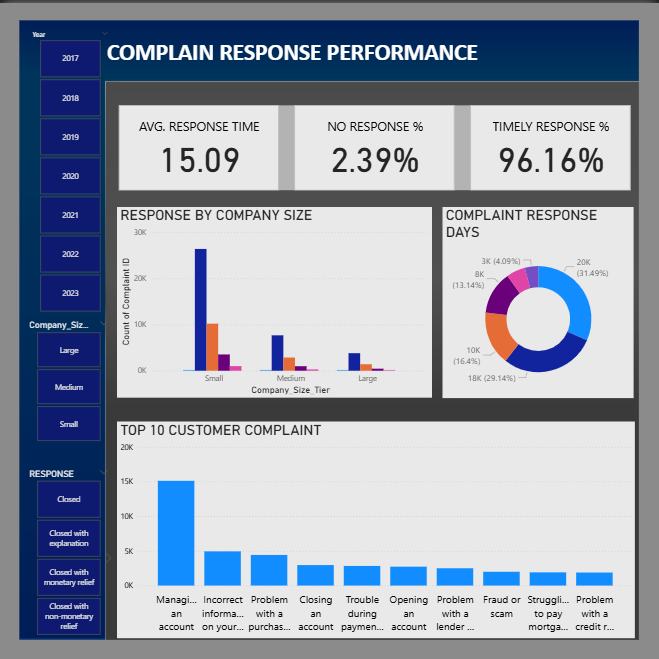

Layout of this report page (visuals, bound fields, positions):
{"tool":"powerbi","page":{"name":"RESPONSE PERF.","canvas":[1045,1048],"ordinal":1},"visuals":[{"type":"textbox","box":[164.6,50,841.7,85.4],"z":1000},{"type":"cardVisual","fields":{"Data":["MEASURES (2).AVG. RESPONSE TIME","MEASURES (2).NO RESPONSE %","MEASURES (2).TIMELY RESPONSE %"]},"box":[183.3,156.2,822.9,145.8],"z":2000},{"type":"clusteredColumnChart","title":"RESPONSE BY COMPANY SIZE","fields":{"Series":["Complaints.Company response to consumer"],"Category":["Company.Company_Size_Tier"],"Y":["CountNonNull(Complaints.Complaint ID)"]},"box":[184.6,323.1,500,302.6],"z":3000},{"type":"donutChart","title":"COMPLAINT RESPONSE DAYS","fields":{"Y":["MEASURES (2).TOTAL COMPLAINT"],"Category":["Company.Avg_Response_Time_Days (groups)"]},"box":[703.4,323.7,303.4,303.4],"z":4000},{"type":"clusteredColumnChart","title":"TOP 10 CUSTOMER COMPLAINT ","fields":{"Category":["Complaints.Issue"],"Y":["MEASURES (2).TOTAL COMPLAINT"]},"box":[184.7,664.4,822,344.1],"z":5000},{"type":"slicer","fields":{"Values":["DateTable.Year"]},"box":[37,39.1,145.7,458.7],"z":6000},{"type":"slicer","fields":{"Values":["Company.Company_Size_Tier"]},"box":[32.6,497.8,150,204.3],"z":7000},{"type":"slicer","fields":{"Values":["Complaints.Company response to consumer"]},"box":[32.6,732.6,150,276.1],"z":8000}]}

Visuals, with their boxes on the page's 1045x1048 design canvas (x1, y1, x2, y2). These are canvas units, not pixel positions in the 659x659 screenshot, which may show the page scaled, cropped or inside an application window:
textbox: detection(165, 50, 1006, 135)
cardVisual - MEASURES (2).AVG. RESPONSE TIME x MEASURES (2).NO RESPONSE %: detection(183, 156, 1006, 302)
"RESPONSE BY COMPANY SIZE" clusteredColumnChart: detection(185, 323, 685, 626)
"COMPLAINT RESPONSE DAYS" donutChart: detection(703, 324, 1007, 627)
"TOP 10 CUSTOMER COMPLAINT " clusteredColumnChart: detection(185, 664, 1007, 1008)
slicer - DateTable.Year: detection(37, 39, 183, 498)
slicer - Company.Company_Size_Tier: detection(33, 498, 183, 702)
slicer - Complaints.Company response to consumer: detection(33, 733, 183, 1009)
